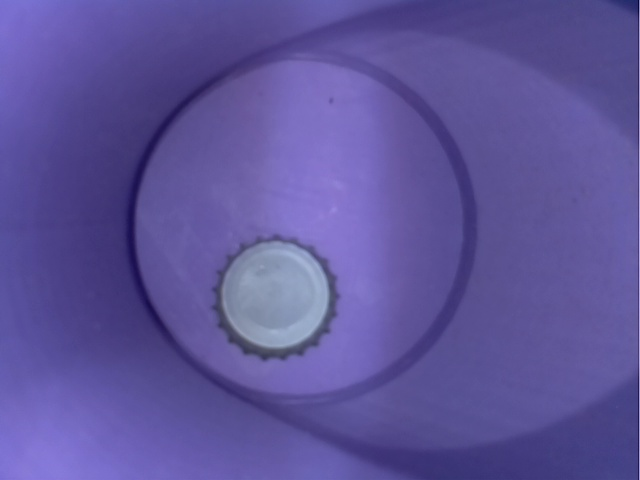capsule: (205, 222, 346, 366)
